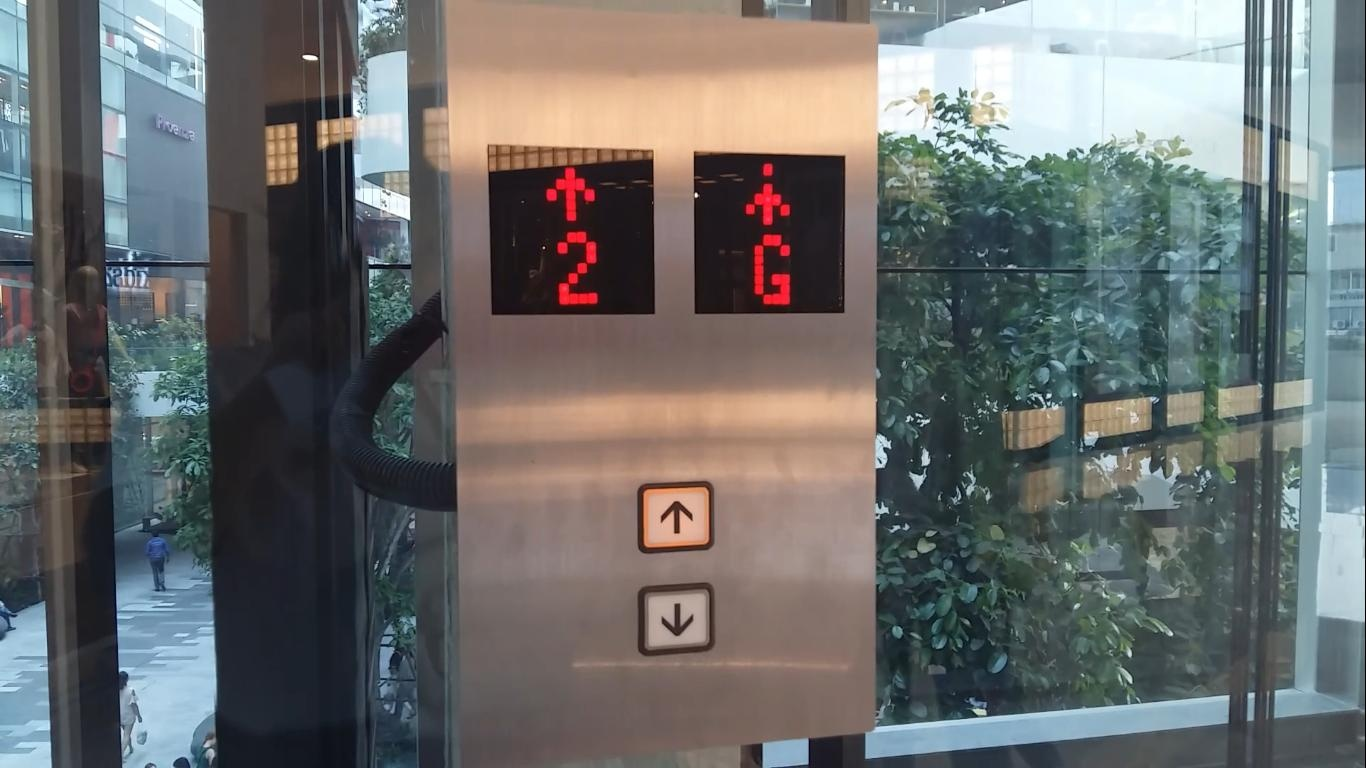down: (637, 584, 717, 655)
led: (487, 144, 657, 316), (695, 152, 846, 315)
up: (639, 482, 714, 553)
